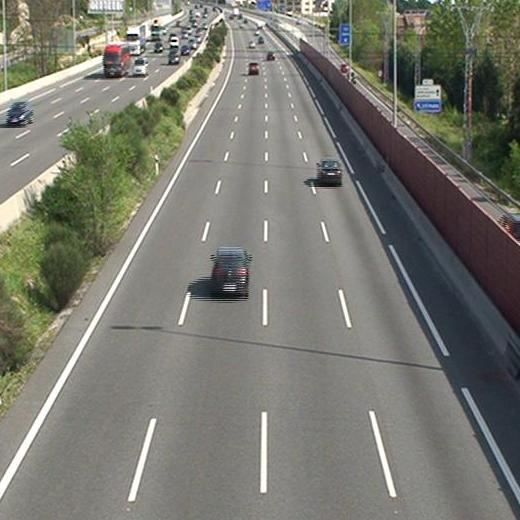car: (210, 246, 250, 296), (316, 159, 342, 183), (249, 61, 261, 75), (265, 50, 277, 62)
